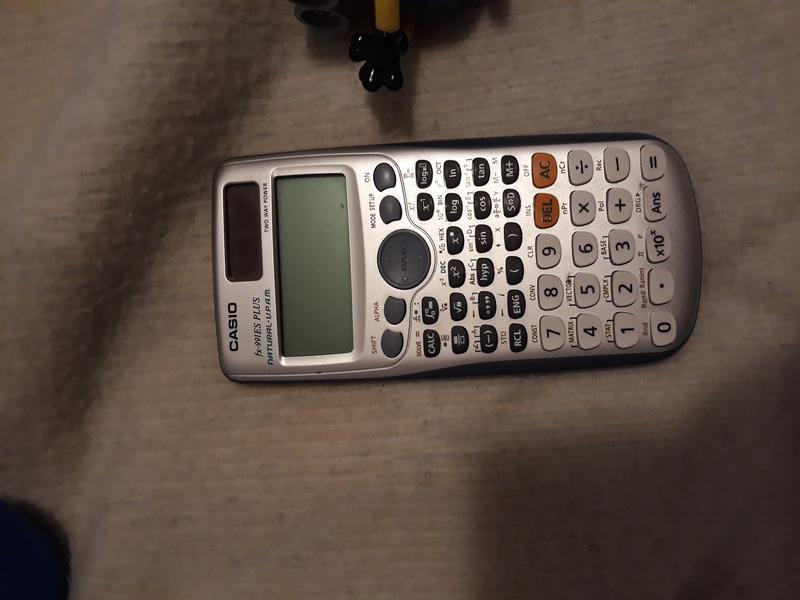CASIO_fx_991ES_PLUS: (198, 122, 704, 396)
